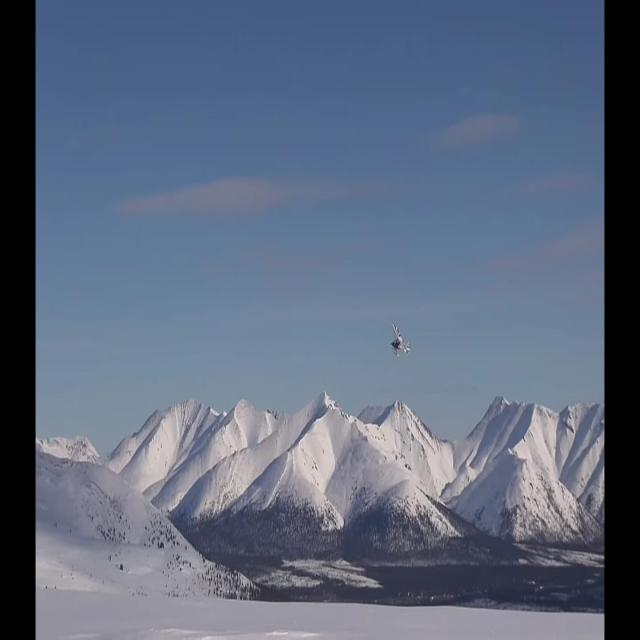iha: (391, 320, 412, 358)
